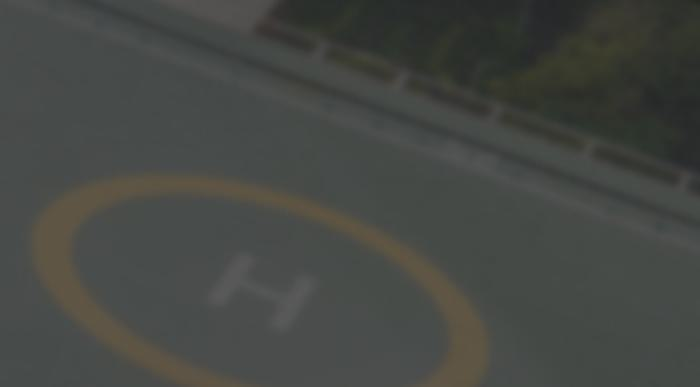Apron: (31, 139, 530, 387)
